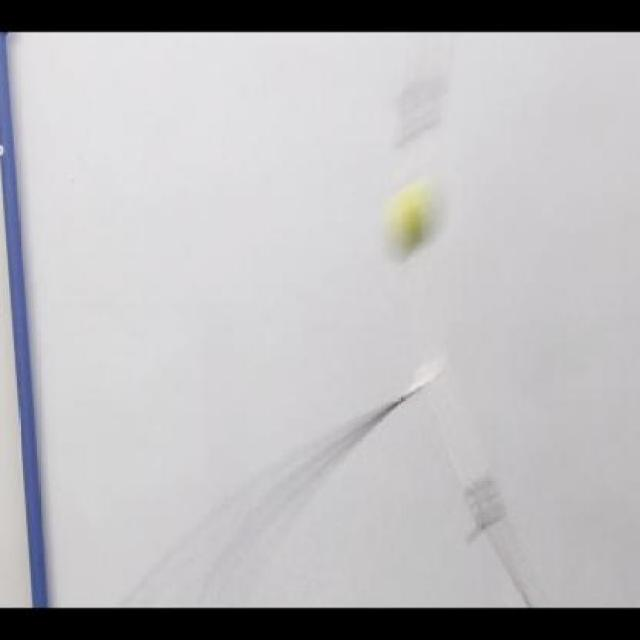baseball: (384, 178, 451, 256)
